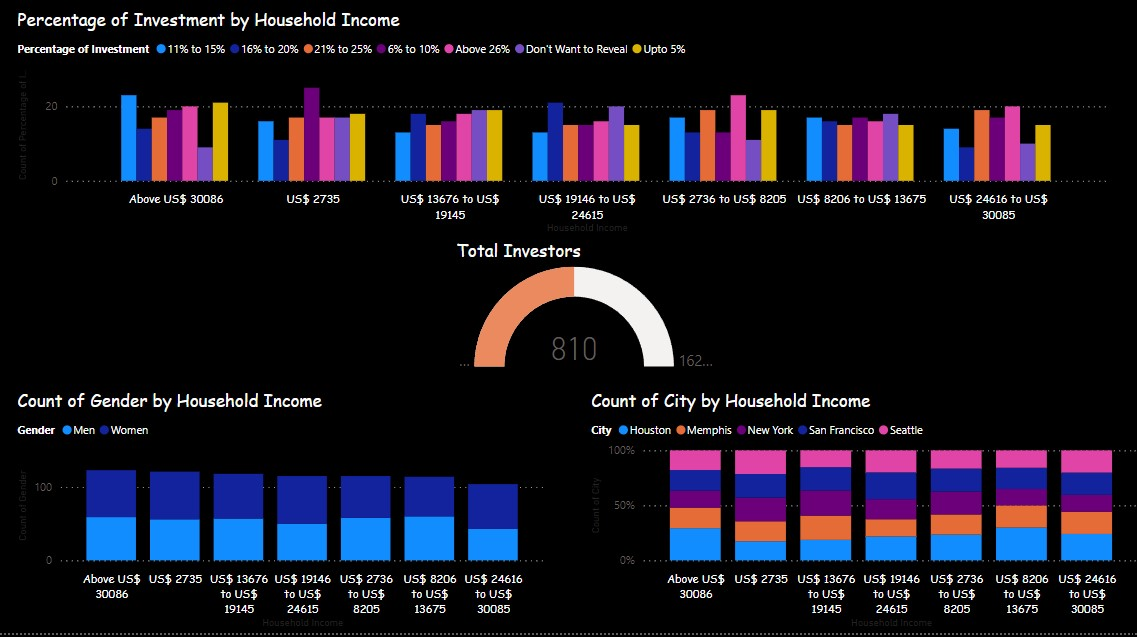

Layout of this report page (visuals, bound fields, positions):
{"tool":"powerbi","page":{"name":"Household Income","canvas":[1280,720],"ordinal":4},"visuals":[{"type":"clusteredColumnChart","title":"Percentage of Investment by Household Income","fields":{"Category":["Sheet1.Household Income"],"Y":["CountNonNull(Sheet1.Percentage of Investment)"],"Series":["Sheet1.Percentage of Investment"]},"box":[38.4,32.9,1207.6,253.9],"z":0},{"type":"lineStackedColumnComboChart","title":"Count of Gender by Household Income ","fields":{"Category":["Sheet1.Household Income"],"Y":["CountNonNull(Sheet1.Gender)"],"Series":["Sheet1.Gender"]},"box":[38.4,451.5,588.7,269],"z":1000},{"type":"hundredPercentStackedColumnChart","title":"Count of City by Household Income ","fields":{"Y":["CountNonNull(Sheet1.City)"],"Category":["Sheet1.Household Income"],"Series":["Sheet1.City"]},"box":[668.3,451.5,612,269],"z":2000},{"type":"gauge","title":"Total Investors","fields":{"Y":["CountNonNull(Sheet1.Gender)"]},"box":[520.1,286.8,295,150.9],"z":3000}]}

Visuals, with their boxes in screenshot pixels (x1, y1, x2, y2), scaled from the page's 1280x720 canvas onto the 1137x637 screenshot:
"Percentage of Investment by Household Income" clusteredColumnChart: (left=34, top=29, right=1107, bottom=254)
"Count of Gender by Household Income " lineStackedColumnComboChart: (left=34, top=399, right=557, bottom=636)
"Count of City by Household Income " hundredPercentStackedColumnChart: (left=594, top=399, right=1136, bottom=636)
"Total Investors" gauge: (left=462, top=254, right=724, bottom=387)
